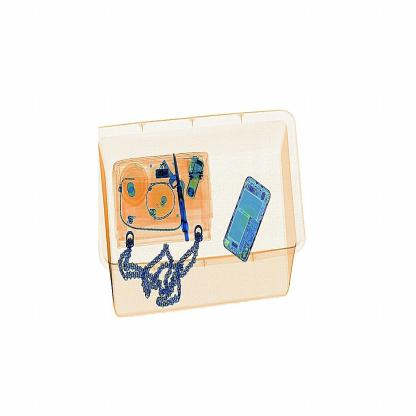gun: (164, 147, 198, 244)
